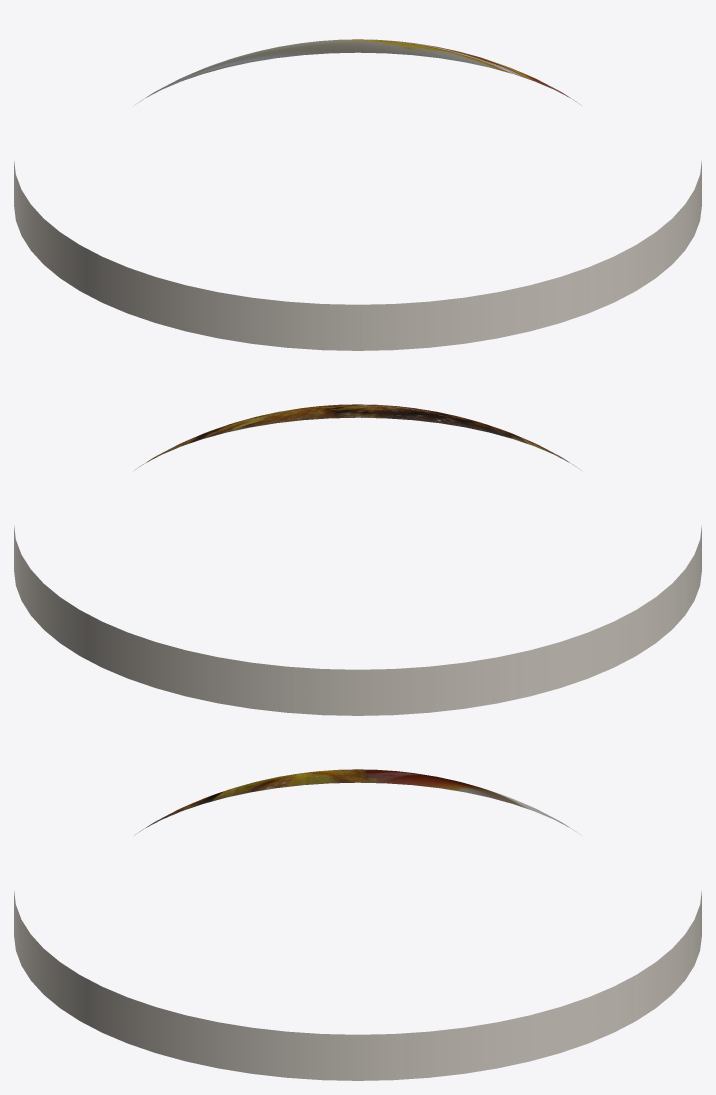
File: mutton-karahi.glb
The picture shows the model from 3 angles, top to bottom: view 1: azimuth 30°, elevation 25°; view 2: azimuth 150°, elevation 25°; view 3: azimuth 270°, elevation 25°; orthographic projection.
Visible parts, largest first — view 1: mutton-karahi; view 2: mutton-karahi; view 3: mutton-karahi.
Boxes of the visible parts, bbox=[...] form: mutton-karahi: bbox=[14, 39, 701, 350]; mutton-karahi: bbox=[14, 404, 701, 715]; mutton-karahi: bbox=[14, 769, 701, 1080].
Size of the model in its own units: 0.27 by 0.0553 by 0.27.
Materials: 1 (1 with a texture image).
